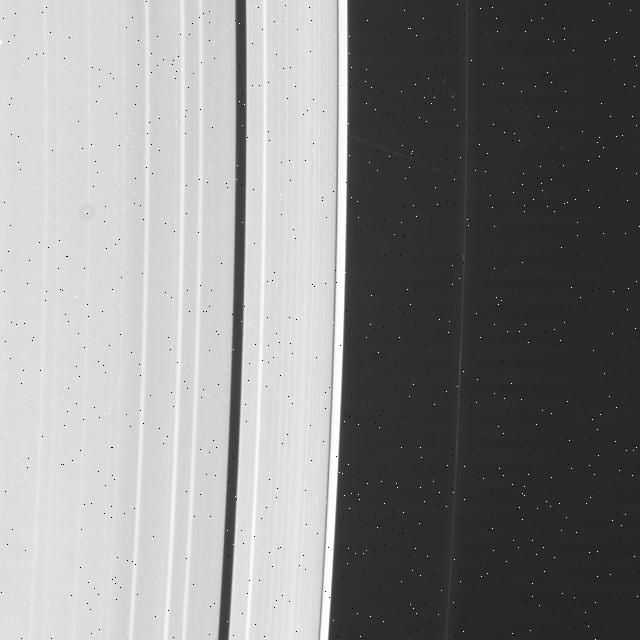Saturn: (0, 0, 477, 640)
